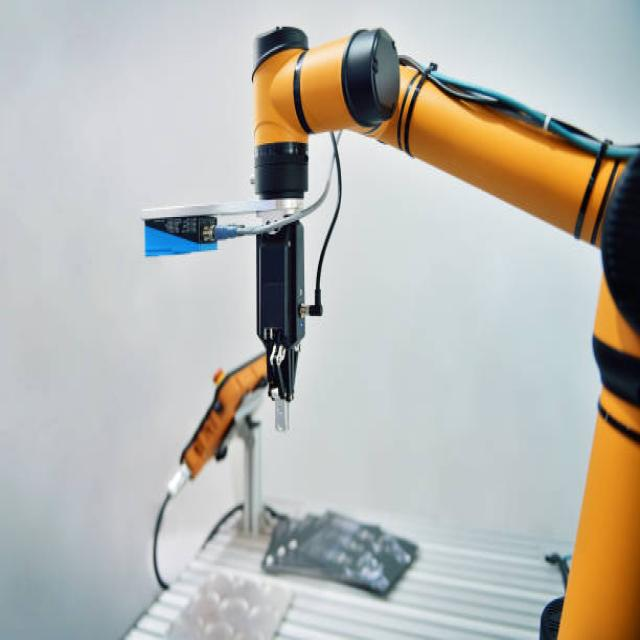Robotic-arm: (239, 10, 640, 640)
